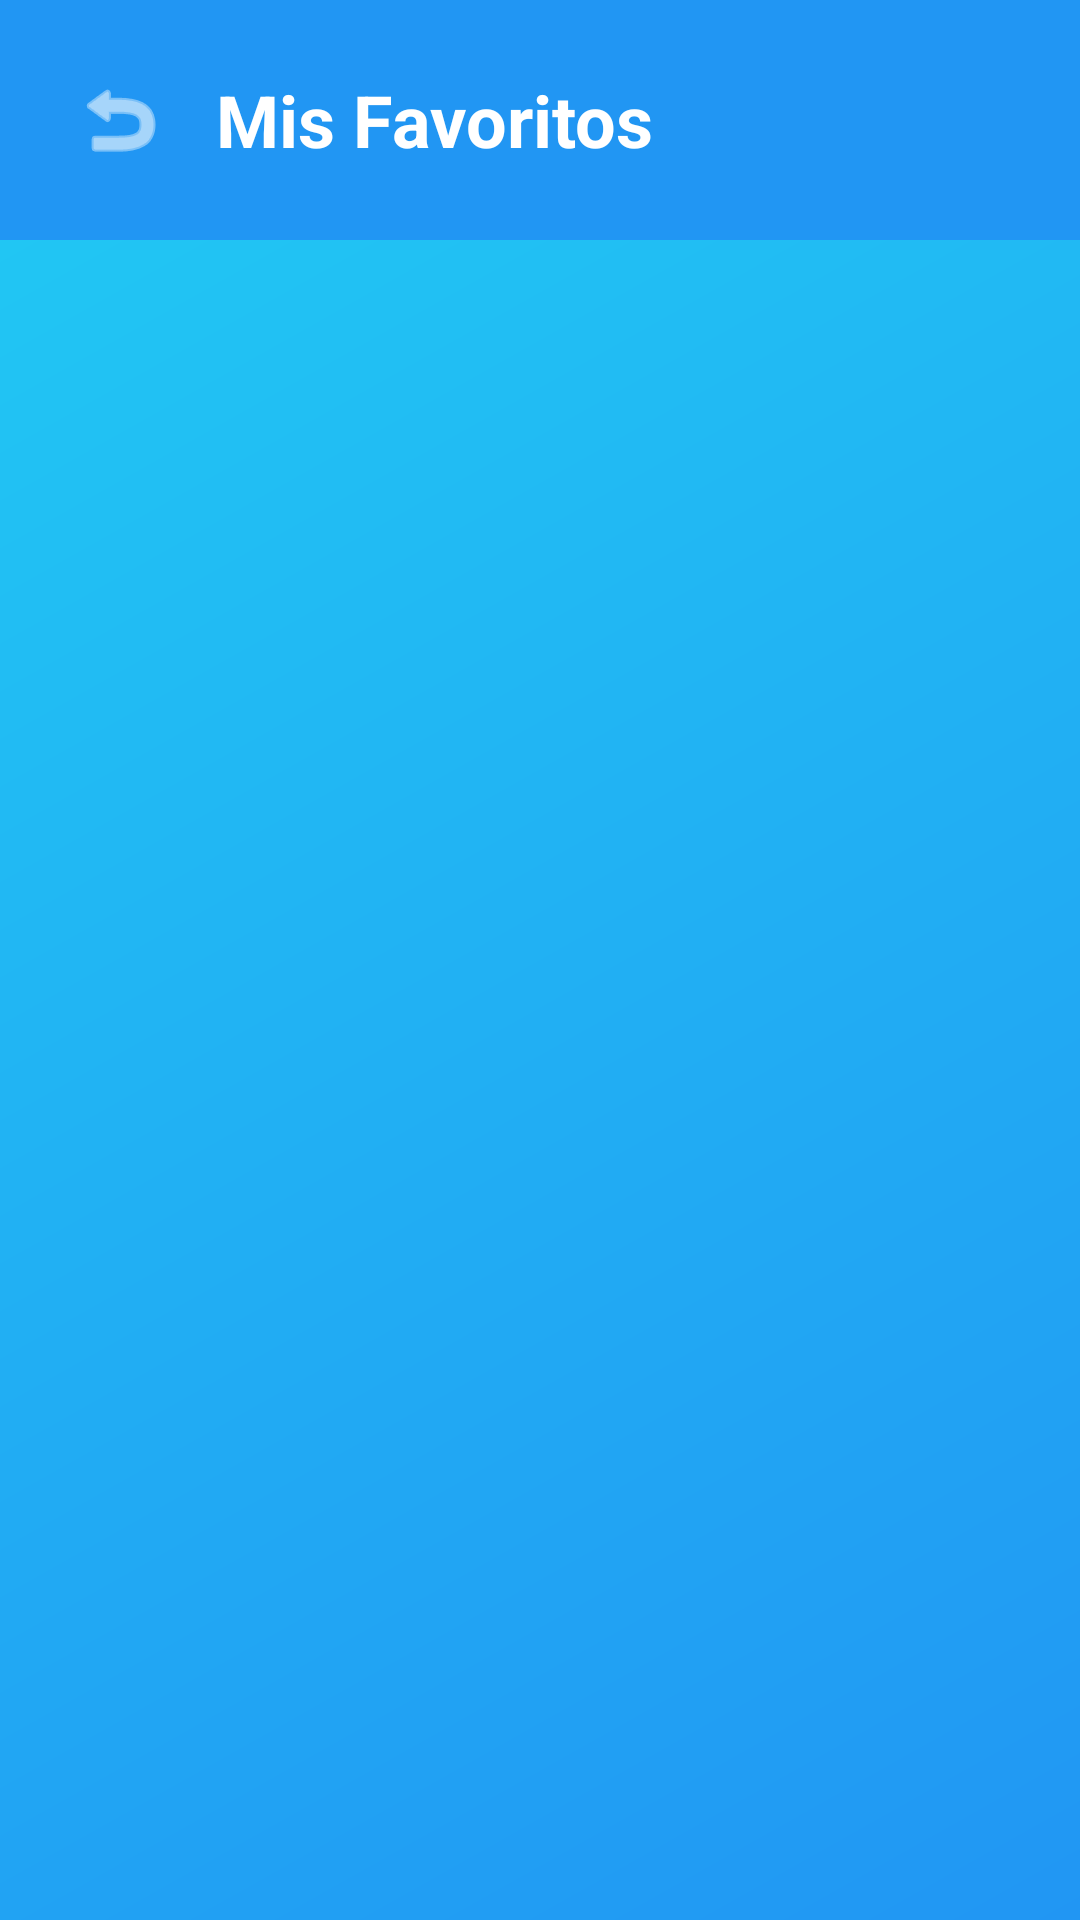

Icon bounding boxes for this 1080×1920 phone screenshot, format [x1=x1, y1=y1, x2=x2, y2=y2]:
Volver: [x1=87, y1=89, x2=156, y2=152]
